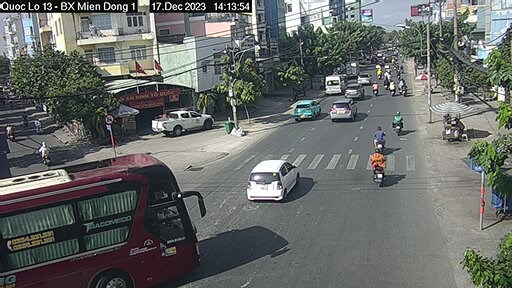bus: (1, 160, 211, 288)
car: (247, 159, 301, 202), (151, 110, 213, 136), (330, 97, 359, 122), (292, 99, 324, 120), (325, 74, 347, 96), (344, 82, 363, 103), (358, 71, 370, 86)
motorbike: (369, 147, 388, 183), (38, 140, 56, 165), (374, 123, 389, 149), (392, 112, 407, 134)
